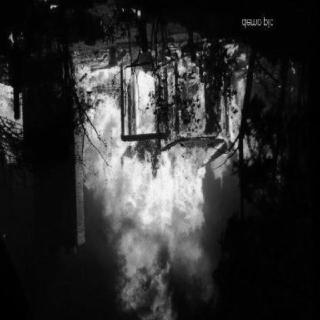Fire: (82, 46, 244, 230), (1, 89, 28, 163)
